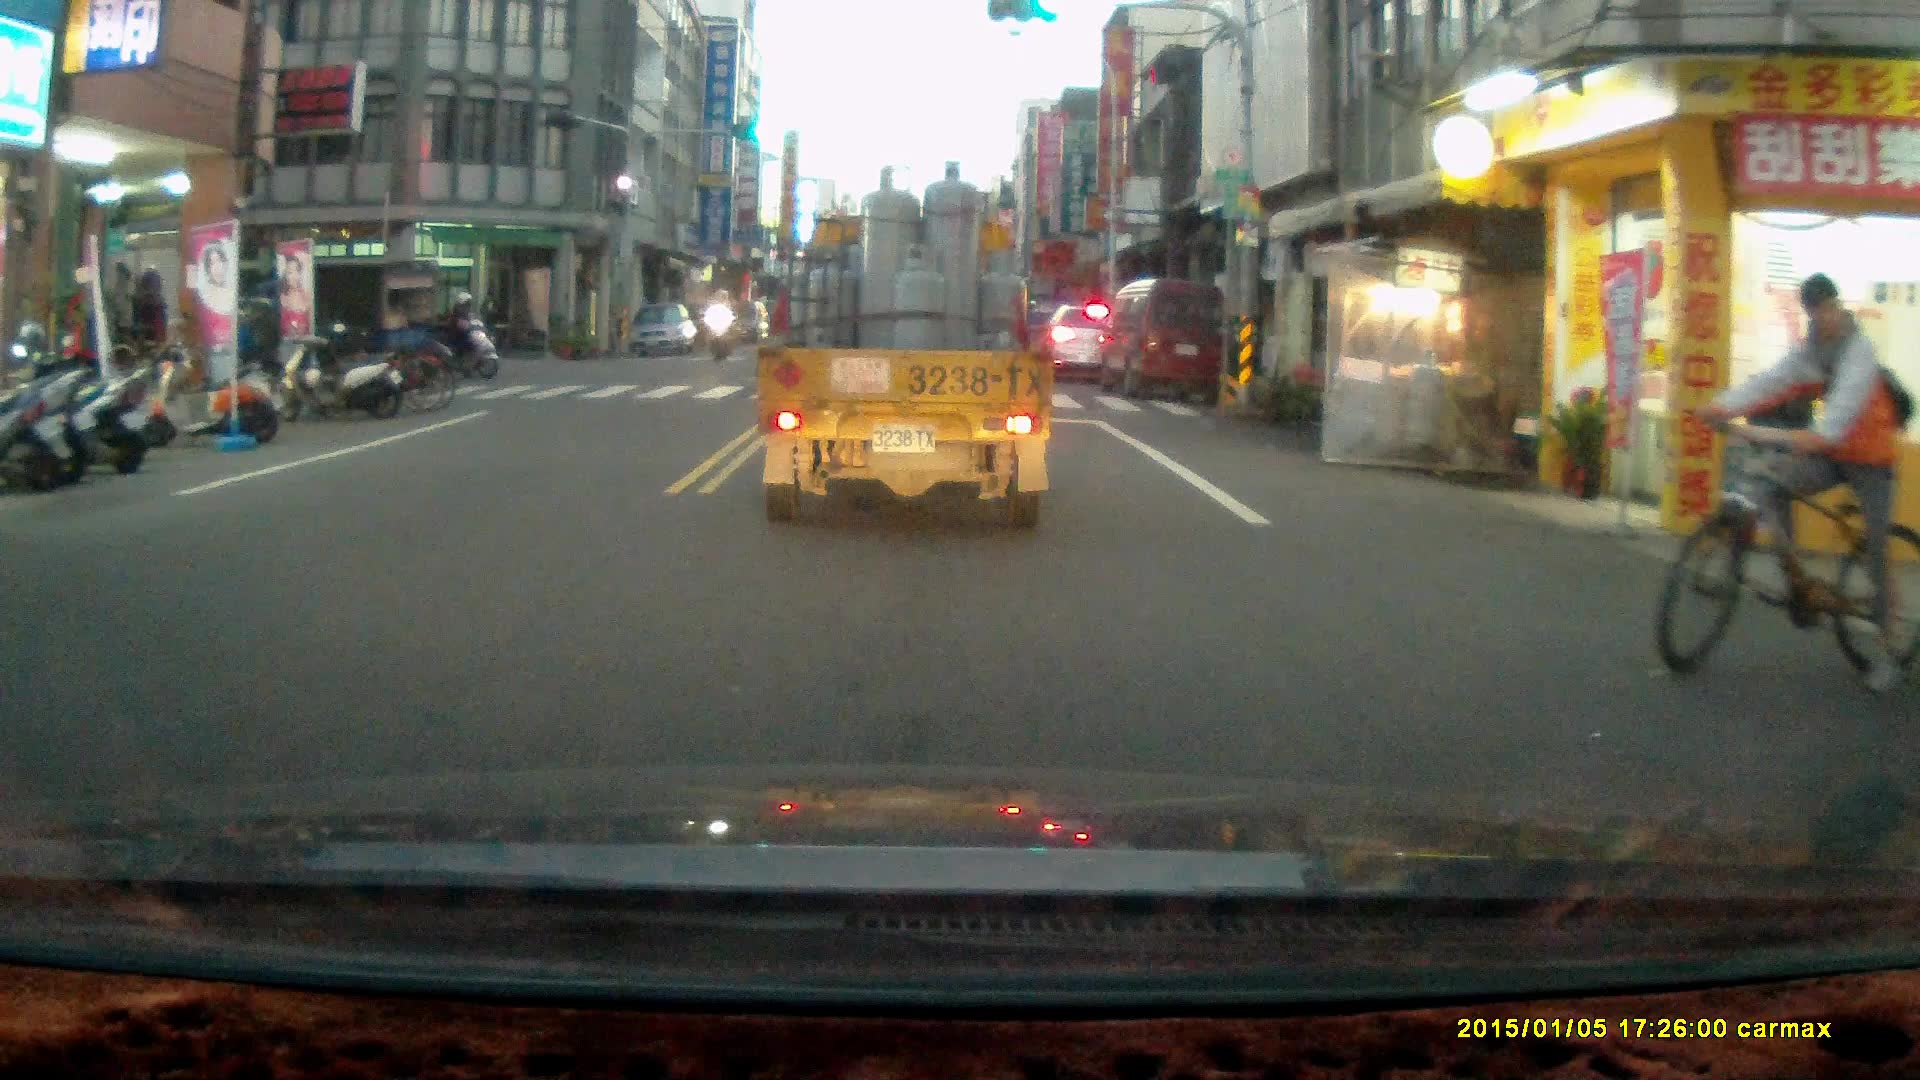pedestrian: (132, 266, 168, 379), (478, 285, 501, 356)
rider: (1659, 270, 1913, 692), (431, 284, 500, 377), (704, 278, 745, 356)
vehicle: (753, 160, 1052, 527), (209, 247, 452, 381), (1096, 278, 1229, 401), (1045, 304, 1123, 382), (628, 302, 697, 358)
